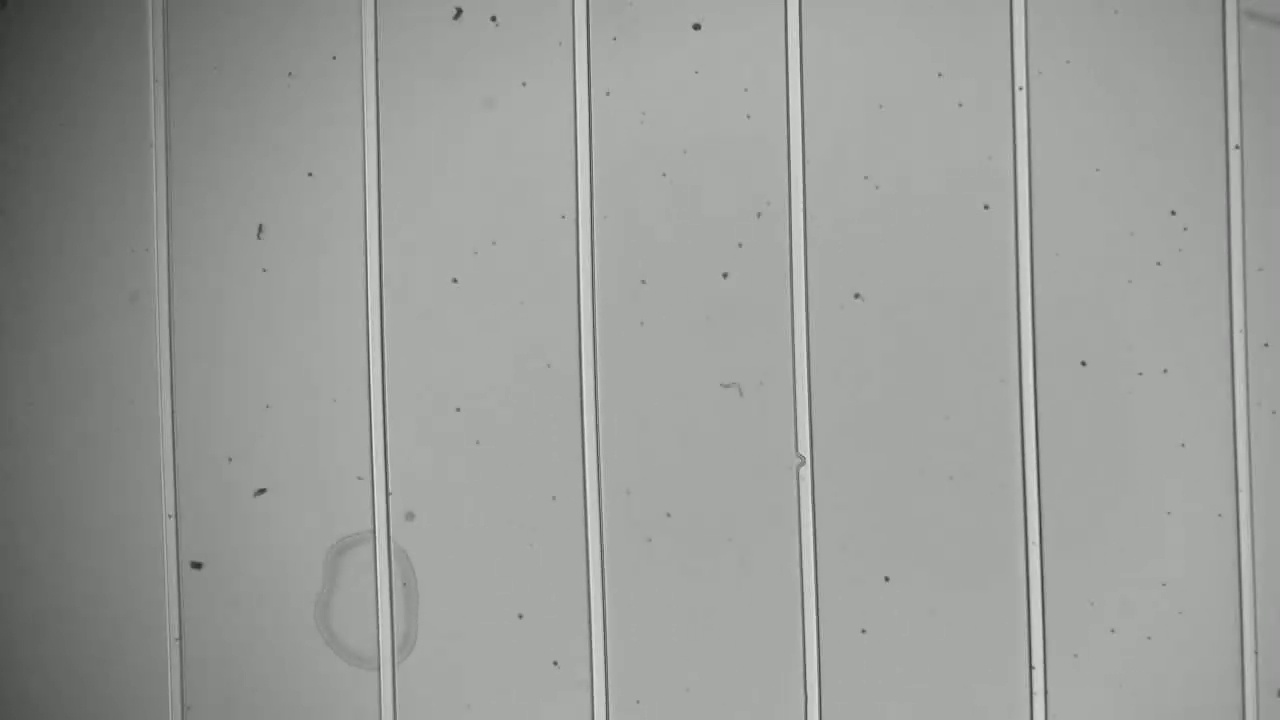edge_bite: (790, 447, 818, 476)
